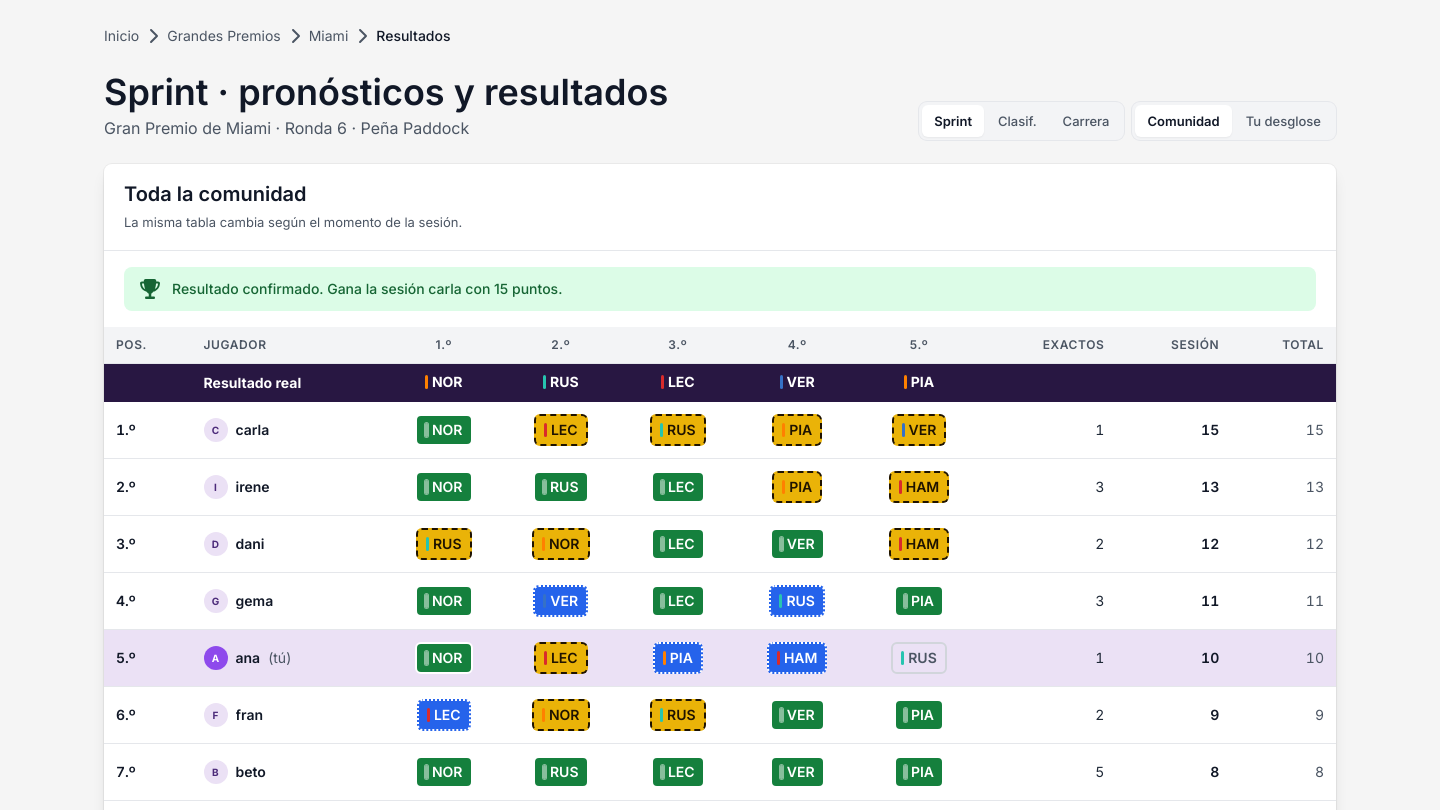
Test case: Results (G5) › «Tu desglose»: KPIs, rows; toggles use aria-pressed
Click the button "Tu desglose" at (1283, 121), box [1234,105,1333,137]
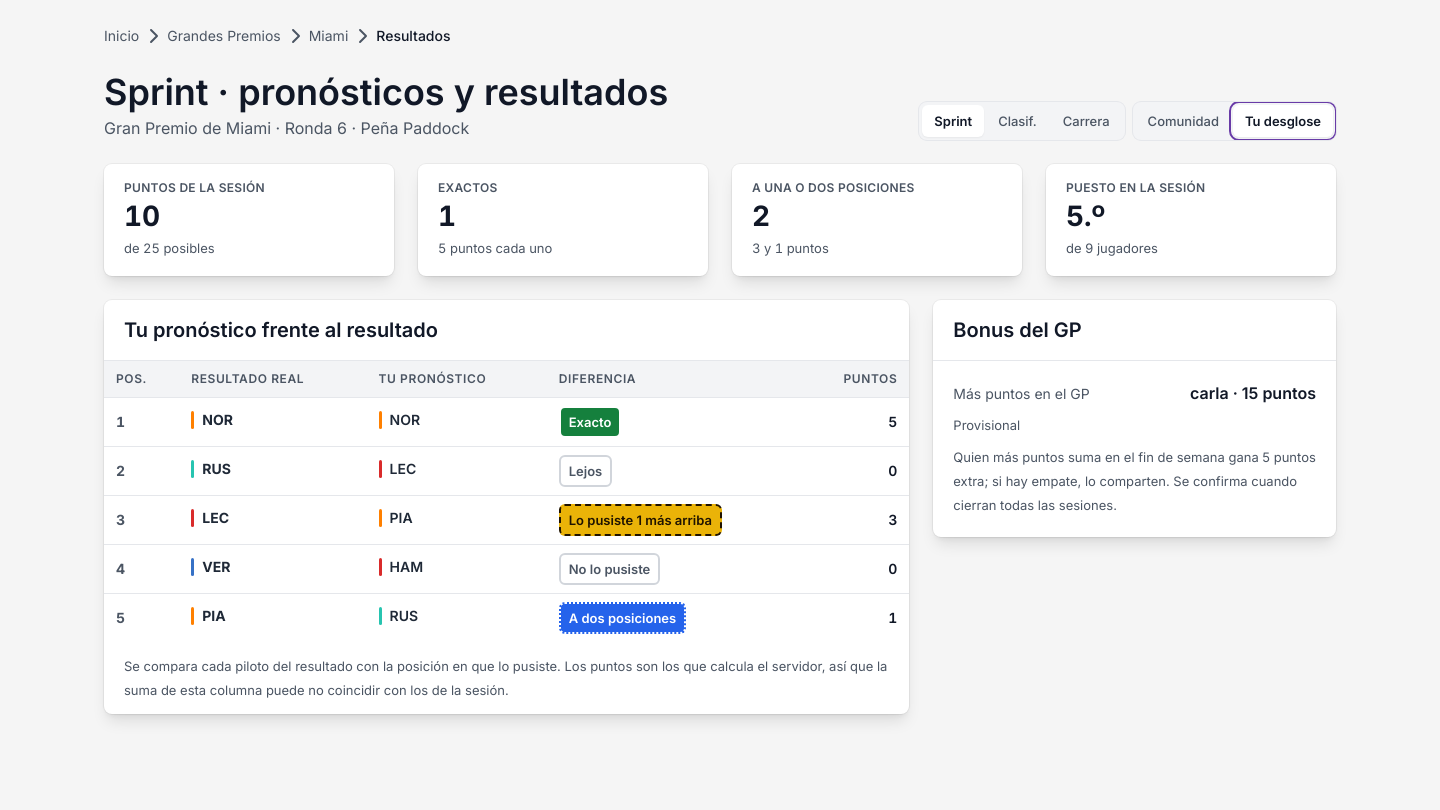
Now the text "Puntos de la sesión" shows "10", box [124,199,160,233]
Now the text "Exactos" shows "1", box [438,199,456,233]
Now the text "A una o dos posiciones" shows "2", box [752,199,770,233]
